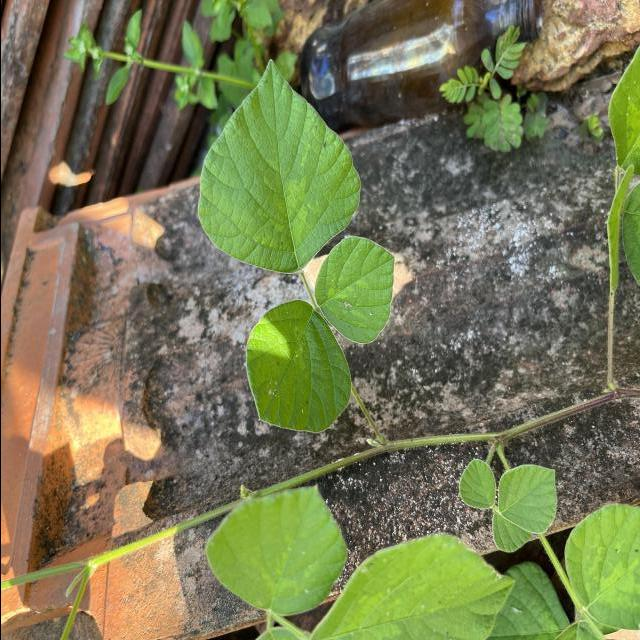Pseudarthria viscida: (195, 56, 398, 437), (457, 458, 558, 554)
